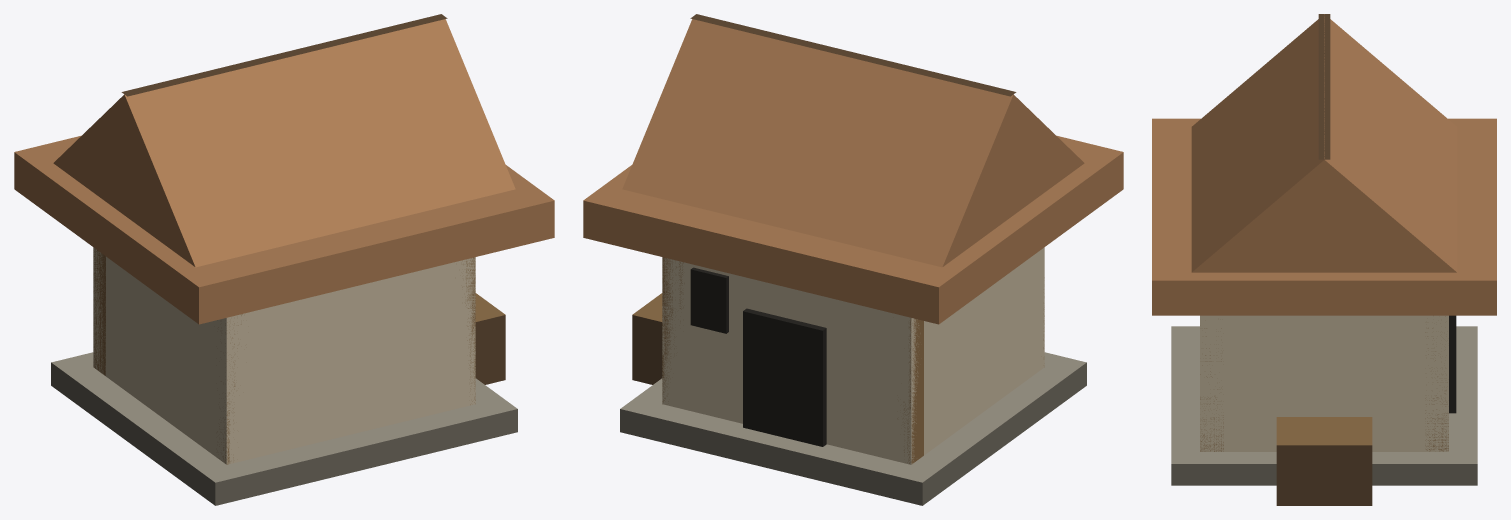
Rendered from bld_hut.glb.
3 views of the same model, side by side, from view 1: azimuth 30°, elevation 25°; view 2: azimuth 150°, elevation 25°; view 3: azimuth 270°, elevation 25° (orthographic). The views are drawn at different scales.
Visible parts, largest first — view 1: bld_hut; view 2: bld_hut; view 3: bld_hut.
Part boxes in pixels (bbox=[...]): bld_hut: bbox=[14, 14, 554, 505]; bld_hut: bbox=[583, 14, 1123, 505]; bld_hut: bbox=[1152, 14, 1496, 505].
Size of the model in its own units: 0.84 by 0.76 by 0.72.
1 material, 1 textured.
